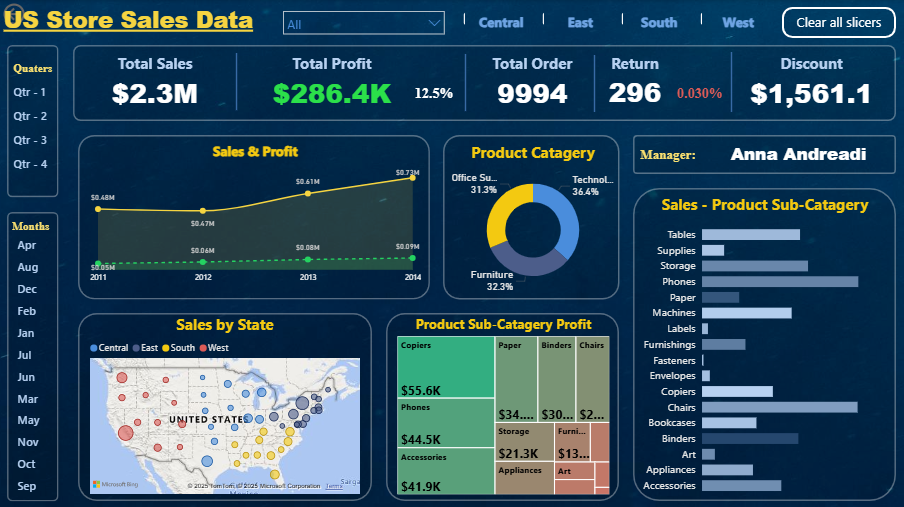

The page's visual inventory and layout, read from the dashboard file:
{"tool":"powerbi","page":{"name":"Page 3","canvas":[1280,720],"ordinal":0},"visuals":[{"type":"shape","box":[93.5,53.9,1186.3,127.6],"z":0},{"type":"shape","box":[0,290,92.9,430],"z":1000},{"type":"card","title":"Total Order","fields":{"Values":["Order.Order ID"]},"box":[681.7,75.1,146,83.6],"z":2000},{"type":"card","title":"Return","fields":{"Values":["Return.Returned"]},"box":[853.2,75.1,93.5,82.2],"z":3000},{"type":"card","title":"Discount","fields":{"Values":["Order.Discount"]},"box":[1043.3,75.6,214.4,83.3],"z":4000},{"type":"card","title":"Total Sales","fields":{"Values":["Order.Sales"]},"box":[109.1,75.1,221.1,83.6],"z":5000},{"type":"card","title":"Total Profit","fields":{"Values":["Order.Profit"]},"box":[340,75.6,261.1,83.3],"z":6000},{"type":"shape","box":[330,75.6,10,81.1],"z":7000},{"type":"shape","box":[653.6,76.4,12.7,80.9],"z":8000},{"type":"shape","box":[836.2,78,12.8,80.8],"z":9000},{"type":"shape","box":[1030.9,73.6,12.7,85.5],"z":10000},{"type":"advancedSlicerVisual","fields":{"Values":["People.Region"]},"box":[652,0,456.4,53.9],"z":11000},{"type":"advancedSlicerVisual","fields":{"Values":["Order.Month"]},"box":[12.9,324.3,80,385.7],"z":12000},{"type":"actionButton","box":[0,0,100,40],"z":13000},{"type":"shape","box":[100,181.4,518.6,252.9],"z":14000},{"type":"lineChart","title":"Sales & Profit","fields":{"Category":["Order.Order Date.Variation.Date Hierarchy.Year"],"Y":["Order.Sales","Order.Profit"]},"box":[121.4,201.4,480,210],"z":15000},{"type":"shape","box":[0,54.3,92.9,235.7],"z":16000},{"type":"advancedSlicerVisual","fields":{"Values":["Order.Quarter"]},"box":[7.1,86.5,86.5,188.5],"z":17000},{"type":"textbox","box":[7.1,82.9,78.6,32.9],"z":18000},{"type":"textbox","box":[0,305.7,87.3,33.6],"z":19000},{"type":"shape","box":[617.5,181.5,270,252.9],"z":20000},{"type":"shape","box":[887.2,256.5,392.6,463.5],"z":21000},{"type":"donutChart","title":"Product Catagery","fields":{"Y":["Order.Sales"],"Category":["Order.Category"]},"box":[630.7,201.3,249.4,221.1],"z":22000},{"type":"clusteredBarChart","title":"Sales - Product Sub-Catagery","fields":{"Category":["Order.Sub-Category"],"Y":["Order.Sales"]},"box":[900,275,368.5,435.1],"z":23000},{"type":"actionButton","box":[1108.3,9.9,161.6,43.9],"z":24000},{"type":"shape","box":[100.6,433.7,436.5,286.3],"z":25000},{"type":"map","title":"Sales by State","fields":{"Category":["Order.State"],"Size":["Order.Sales"],"Series":["Order.Region"]},"box":[121.9,445,394,260.8],"z":26000},{"type":"card","title":"Total Order","fields":{"Values":["Order.Profit %"]},"box":[576.2,110.9,77.3,45.4],"z":27000},{"type":"textbox","box":[0,0,501.7,73.7],"z":28000},{"type":"shape","box":[887.2,181.4,392.6,75.1],"z":29000},{"type":"card","title":"Total Order","fields":{"Values":["People.Person"]},"box":[993.5,191.3,276.4,55.3],"z":30000},{"type":"textbox","box":[900,202.7,93.5,55.3],"z":31000},{"type":"slicer","title":"Total Sales","fields":{"Values":["Order.State"]},"box":[391.2,5.7,249.4,43.9],"z":32000},{"type":"shape","box":[537.2,433.7,350.1,286.3],"z":33000},{"type":"treemap","title":"Product Sub-Catagery Profit","fields":{"Group":["Order.Sub-Category"],"Values":["Order.Profit"]},"box":[558.4,446.5,310.4,259.4],"z":34000},{"type":"card","title":"Total Order","fields":{"Values":["Order.Return %"]},"box":[953.9,110.6,76.5,45.4],"z":34001}]}

Visuals, with their boxes in screenshot pixels (x1, y1, x2, y2), scaled from the page's 1280x720 canvas onto the 904x507 screenshot:
shape: 66, 38, 903, 128
shape: 0, 204, 66, 506
"Total Order" card: 481, 53, 585, 112
"Return" card: 603, 53, 669, 111
"Discount" card: 737, 53, 888, 112
"Total Sales" card: 77, 53, 233, 112
"Total Profit" card: 240, 53, 425, 112
shape: 233, 53, 240, 110
shape: 462, 54, 471, 111
shape: 591, 55, 600, 112
shape: 728, 52, 737, 112
advancedSlicerVisual - People.Region: 460, 0, 783, 38
advancedSlicerVisual - Order.Month: 9, 228, 66, 500
actionButton: 0, 0, 71, 28
shape: 71, 128, 437, 306
"Sales & Profit" lineChart: 86, 142, 425, 290
shape: 0, 38, 66, 204
advancedSlicerVisual - Order.Quarter: 5, 61, 66, 194
textbox: 5, 58, 61, 82
textbox: 0, 215, 62, 239
shape: 436, 128, 627, 306
shape: 627, 181, 903, 506
"Product Catagery" donutChart: 445, 142, 622, 297
"Sales - Product Sub-Catagery" clusteredBarChart: 636, 194, 896, 500
actionButton: 783, 7, 897, 38
shape: 71, 305, 379, 506
"Sales by State" map: 86, 313, 364, 497
"Total Order" card: 407, 78, 462, 110
textbox: 0, 0, 354, 52
shape: 627, 128, 903, 181
"Total Order" card: 702, 135, 897, 174
textbox: 636, 143, 702, 182
"Total Sales" slicer: 276, 4, 452, 35
shape: 379, 305, 627, 506
"Product Sub-Catagery Profit" treemap: 394, 314, 614, 497
"Total Order" card: 674, 78, 728, 110
